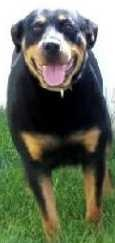Dog: (7, 9, 111, 217)
